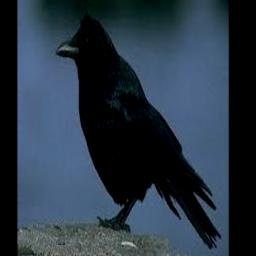Crow: (56, 14, 221, 253)
